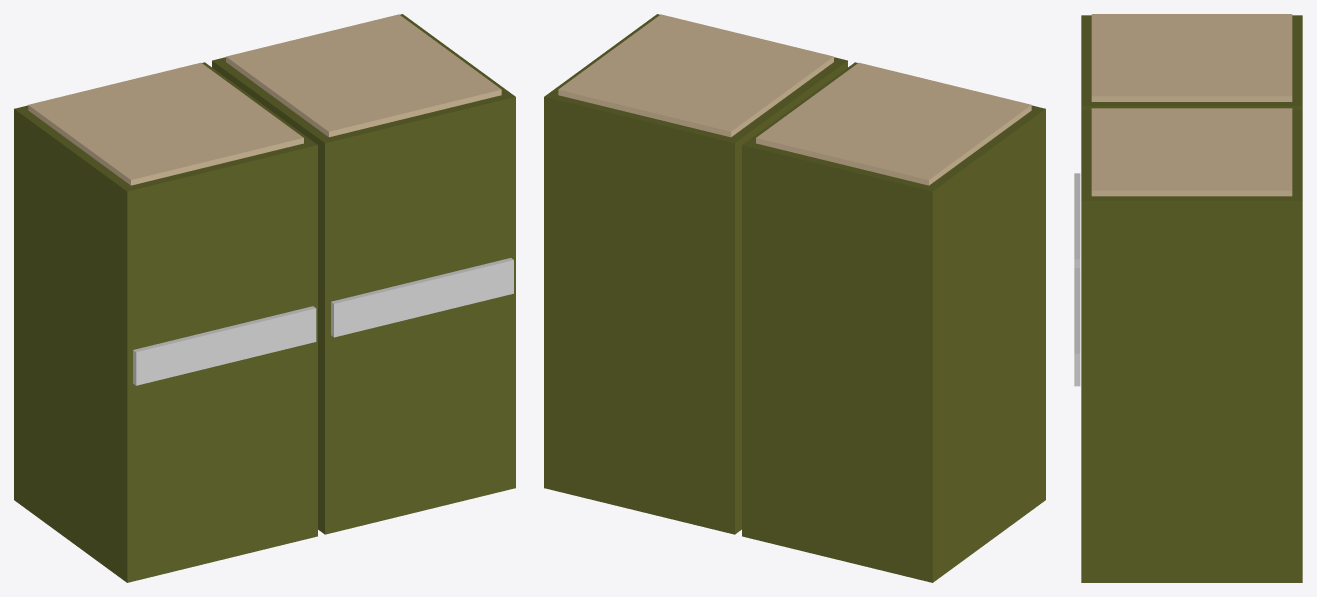
Rendered from SM_HescoCorto2_v1_Geotextil_e0_Sano_LOD1.fbx.
3 renders of one model, left to right at view 1: azimuth 30°, elevation 25°; view 2: azimuth 150°, elevation 25°; view 3: azimuth 270°, elevation 25°, orthographic. The views are drawn at different scales.
Parts seen in each view (by area): view 1: SM_hesco_piezas_v64_LOD1; view 2: SM_hesco_piezas_v64_LOD1; view 3: SM_hesco_piezas_v64_LOD1.
Part boxes in pixels (x1,y1,x2,y2): SM_hesco_piezas_v64_LOD1: (14, 14, 515, 582); SM_hesco_piezas_v64_LOD1: (544, 14, 1045, 582); SM_hesco_piezas_v64_LOD1: (1074, 14, 1302, 582).
Bounding box in the file's own units: 2.18 × 2.13 × 1.13.
